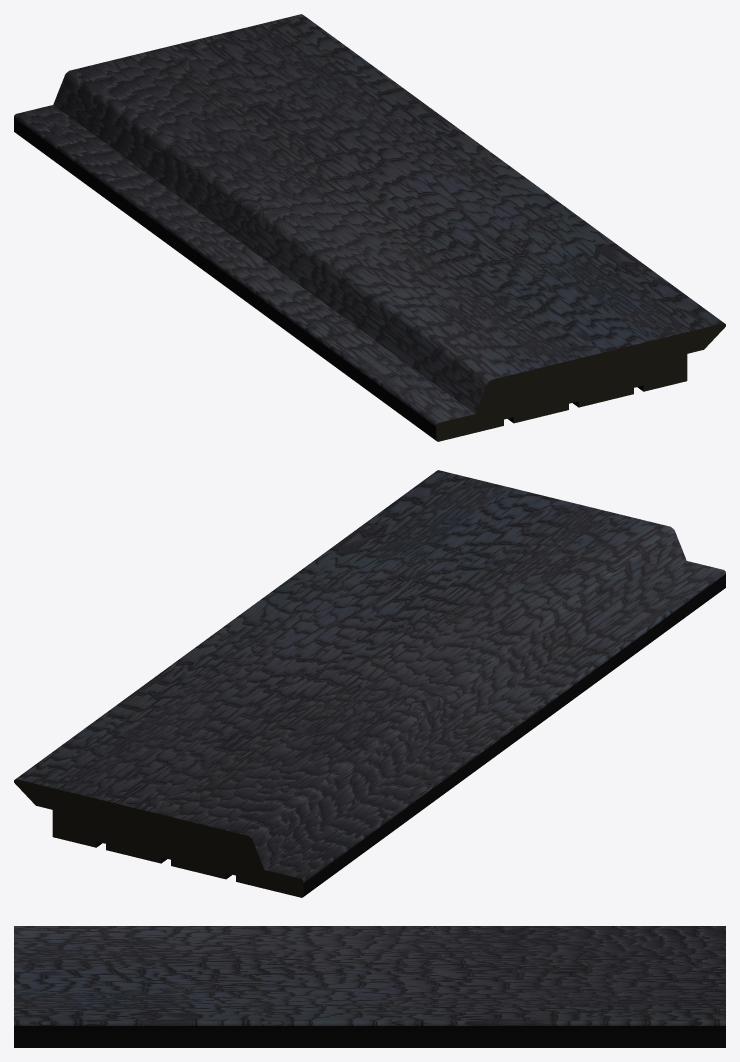
Rendered from larch-facade-half-tongue-45-carbon.glb.
3 renders of one model, top to bottom at view 1: azimuth 30°, elevation 25°; view 2: azimuth 150°, elevation 25°; view 3: azimuth 270°, elevation 25°, orthographic. The views are drawn at different scales.
Parts seen in each view (by area): view 1: Pusė_Špunto_45; view 2: Pusė_Špunto_45; view 3: Pusė_Špunto_45.
Boxes of the visible parts, <box> form: Pusė_Špunto_45: <box>14,14,725,441</box>; Pusė_Špunto_45: <box>14,470,725,897</box>; Pusė_Špunto_45: <box>14,926,725,1047</box>.
Size of the model in its own units: 0.0723 by 0.0117 by 0.1826.
3 materials, 1 textured.
